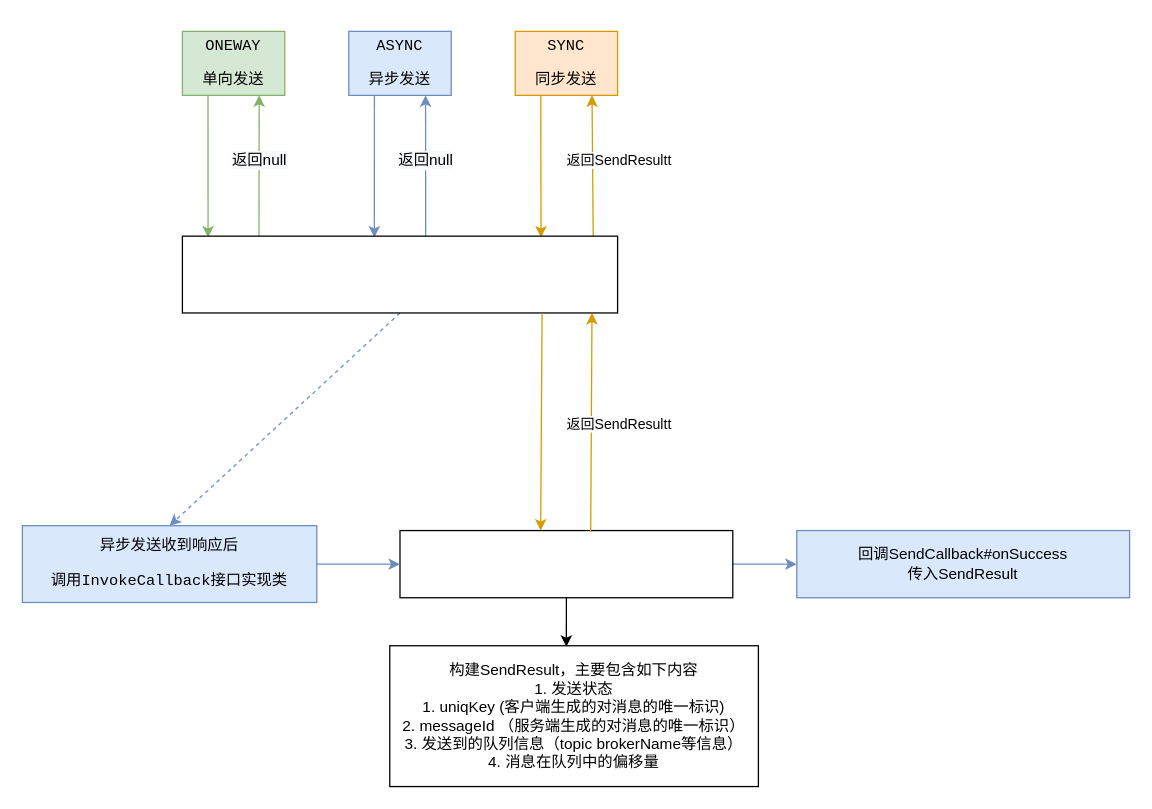
Image size: 1152x809. Some labels were removed from this diagram. The shapes that lost their labels are listed below. From the top down, each one's centre as x and y in pixels, then its label:
point 399,274: NettyRemotingClient 向broker发送SEND_REPLY_MESSAGE_V2类型的消息
point 566,563: MQClientAPIImpl#processSendResponse 处理请求结果，并返回
